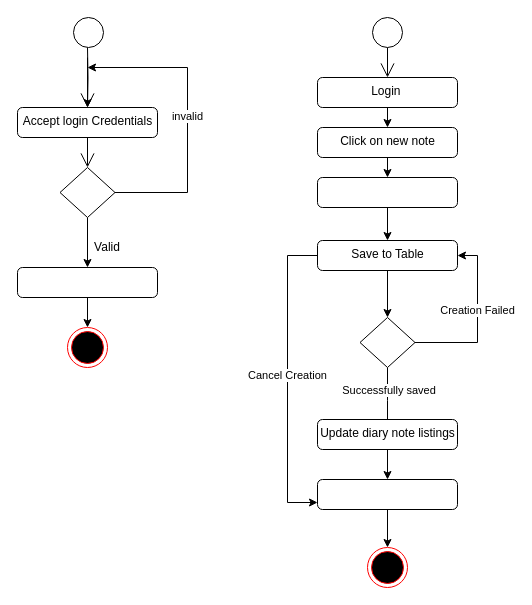
This 532x605 diagram has some shape labels left out. The box of each missing label's shape, as (x1, y1, x2, y2) in pixels:
Grant Access: (16, 266, 158, 298)
Logout: (316, 478, 458, 510)
Select Create note: (316, 176, 458, 208)
